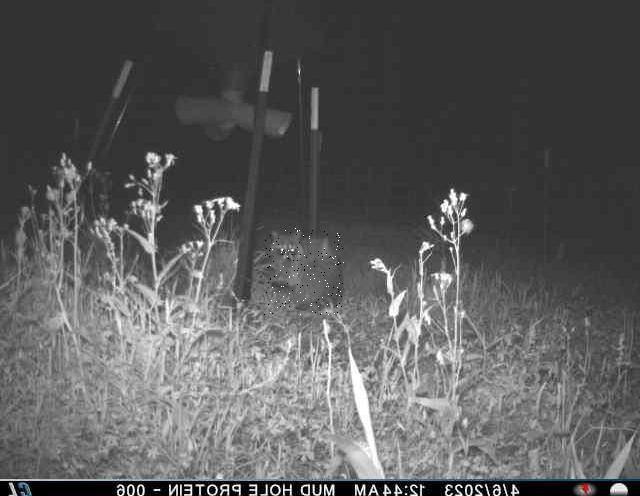Raccoon: (264, 228, 344, 315)
